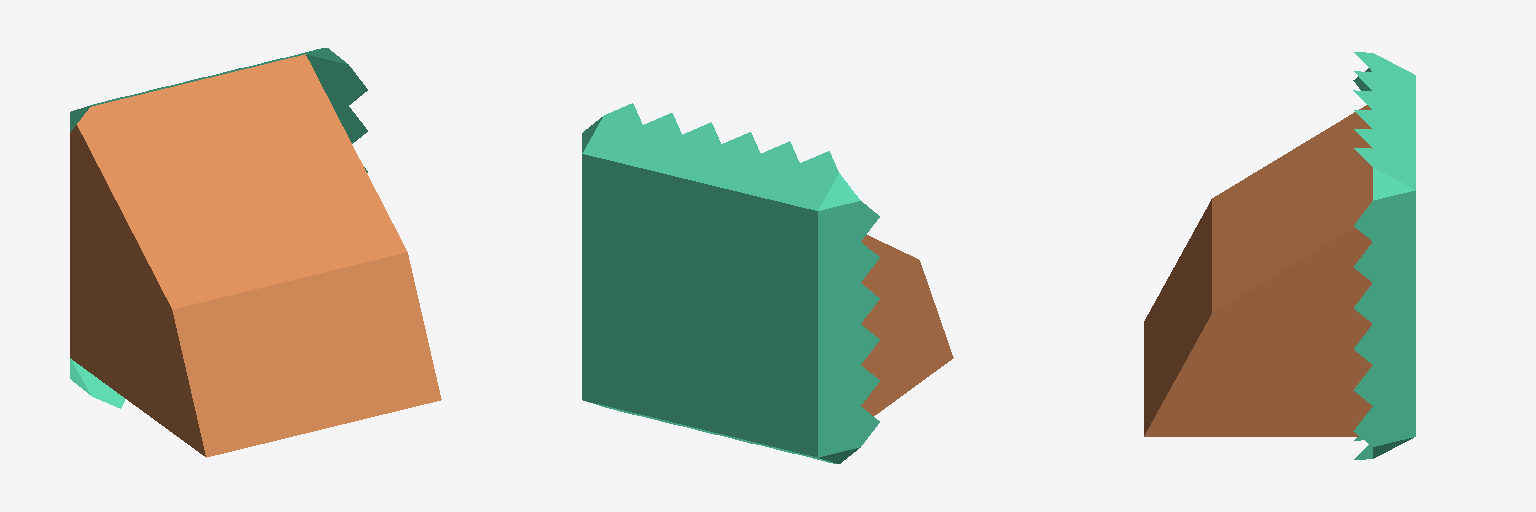
Rendered from blockCliff.obj.
The picture shows the model from 3 angles: view 1: azimuth 30°, elevation 25°; view 2: azimuth 150°, elevation 25°; view 3: azimuth 270°, elevation 25°; orthographic projection.
Visible parts, largest first — view 1: blockCliff; view 2: blockCliff; view 3: blockCliff.
Boxes of the visible parts, x1=… form: blockCliff: x1=70, y1=48, x2=441, y2=457; blockCliff: x1=582, y1=103, x2=953, y2=463; blockCliff: x1=1144, y1=52, x2=1415, y2=459.
Size of the model in its own units: 1.27 by 1.27 by 1.